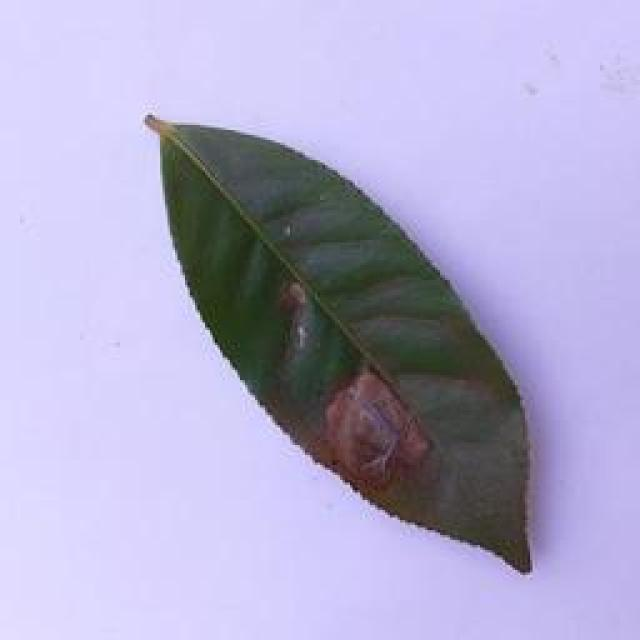Gray Blight: (138, 96, 539, 580)
